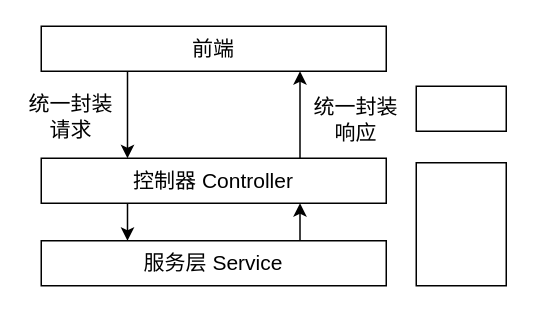
Some shapes in this 533 by 312 pixel diagram are drawn without their labels. Here are the shapes that lost their labels. From the top down, the box of each, then its label:
(415, 85, 506, 131): 交互层
(415, 161, 506, 286): 业务层
